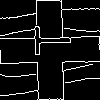T: (25, 25, 71, 56)
